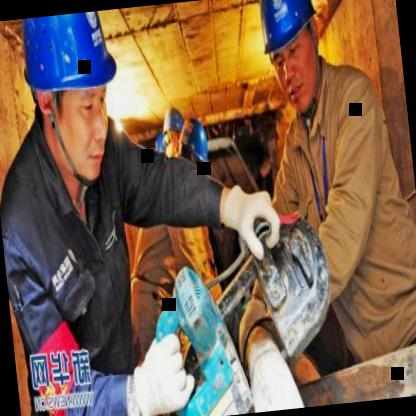helmet: (15, 15, 130, 189), (246, 0, 334, 118), (174, 114, 213, 171), (158, 105, 187, 153)
